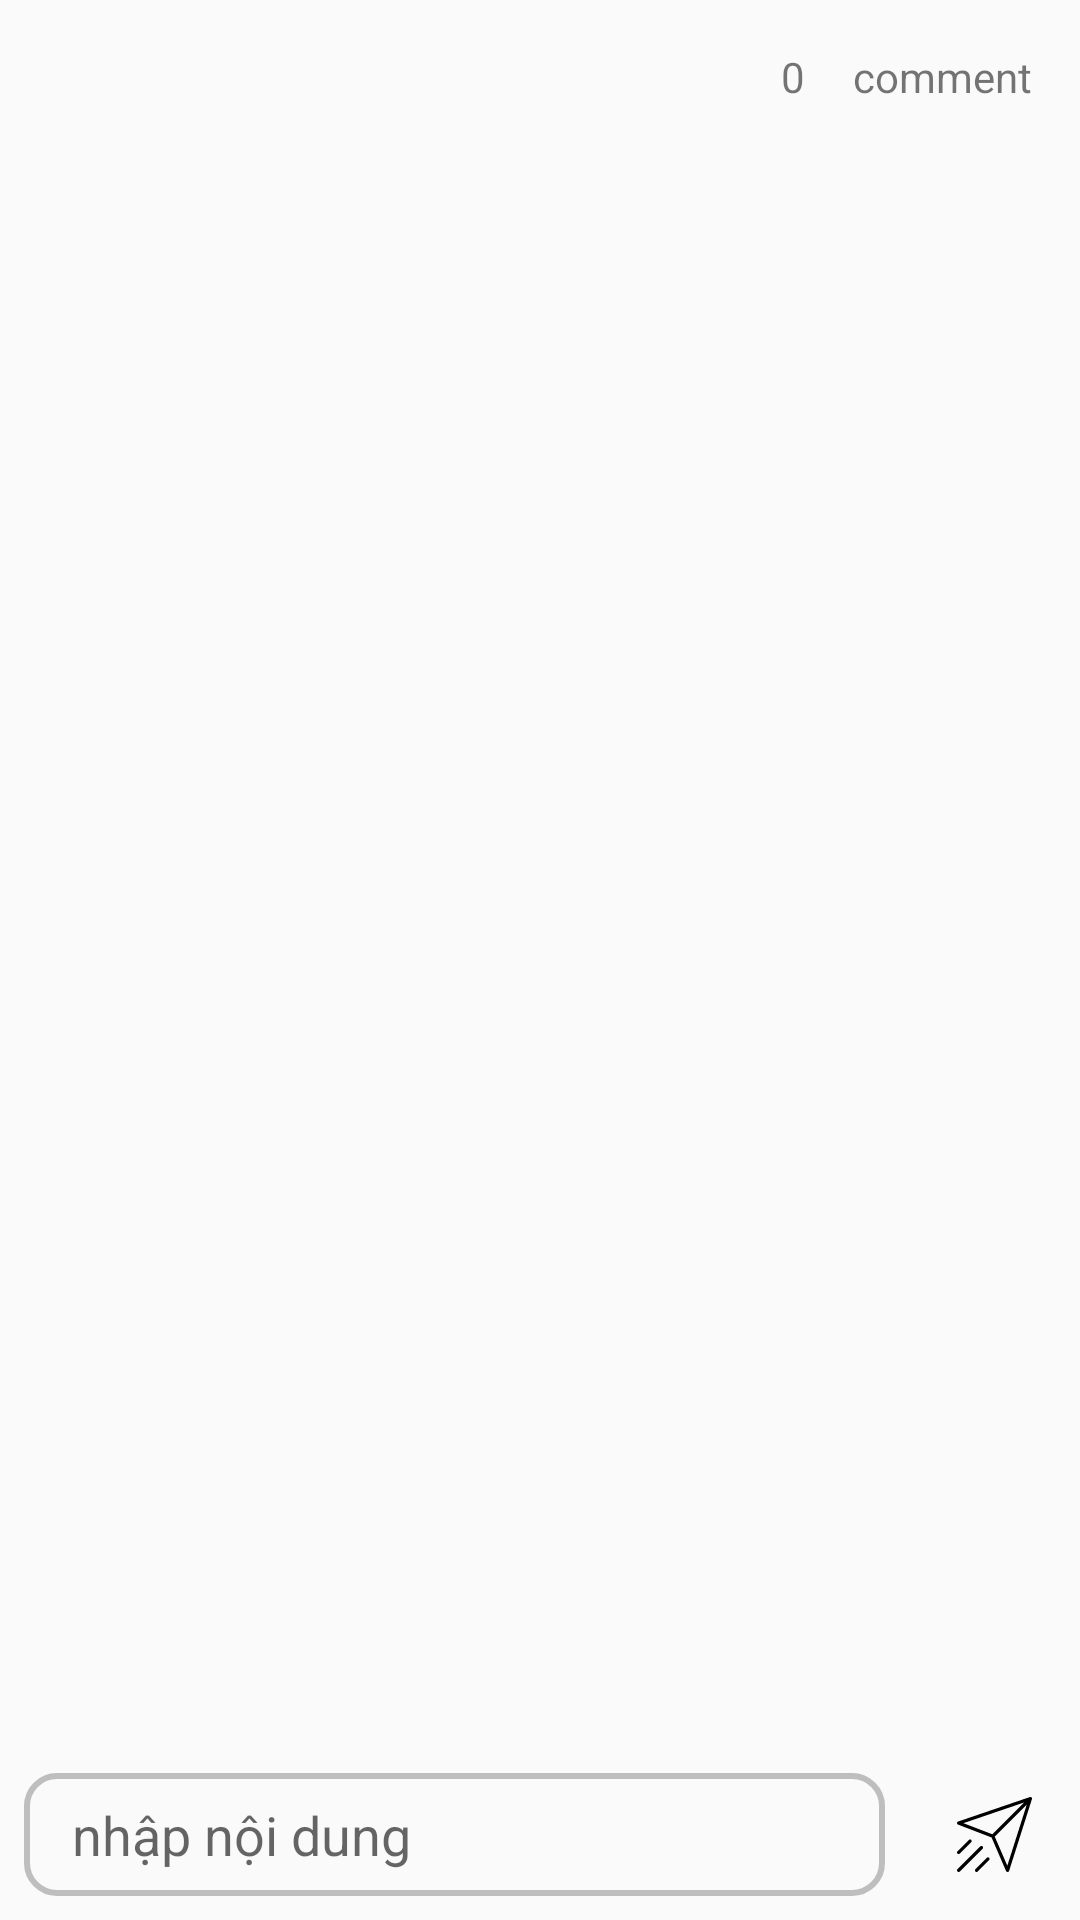

Where to tap for icons on this 1080 x 1920 app screen, as point (x, y):
send: point (994, 1834)
